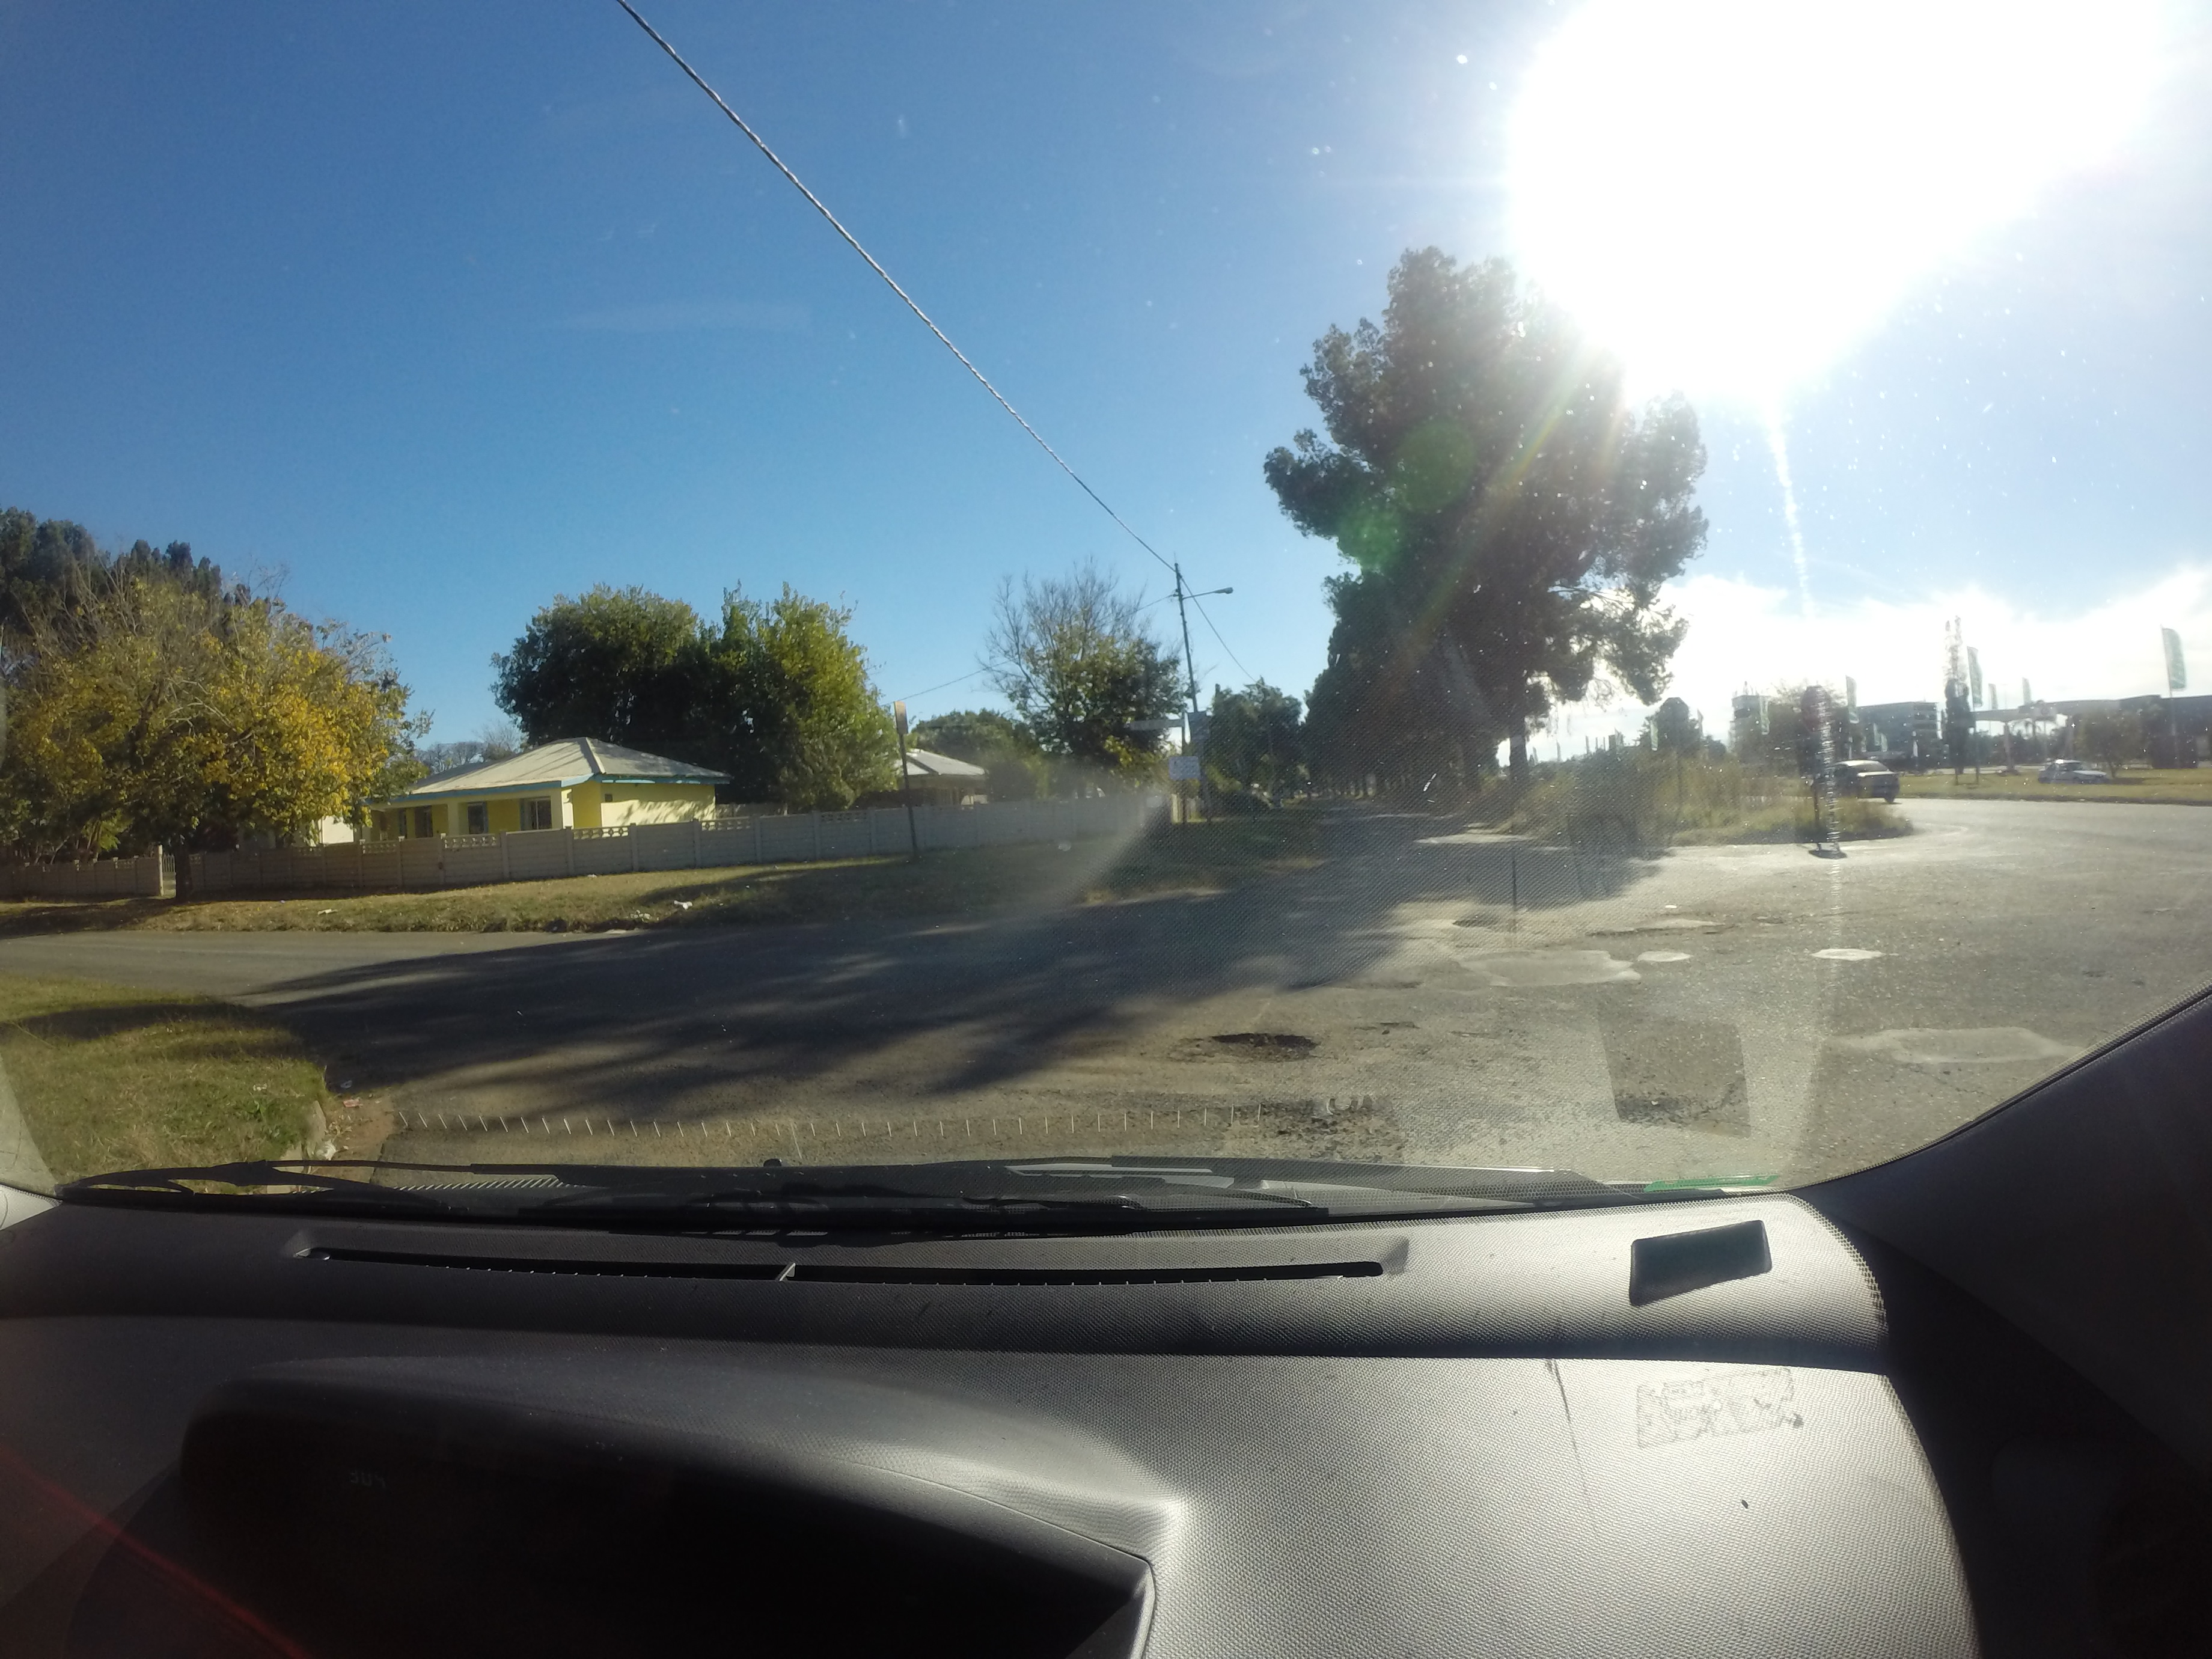pothole: (1122, 978, 1371, 1108)
